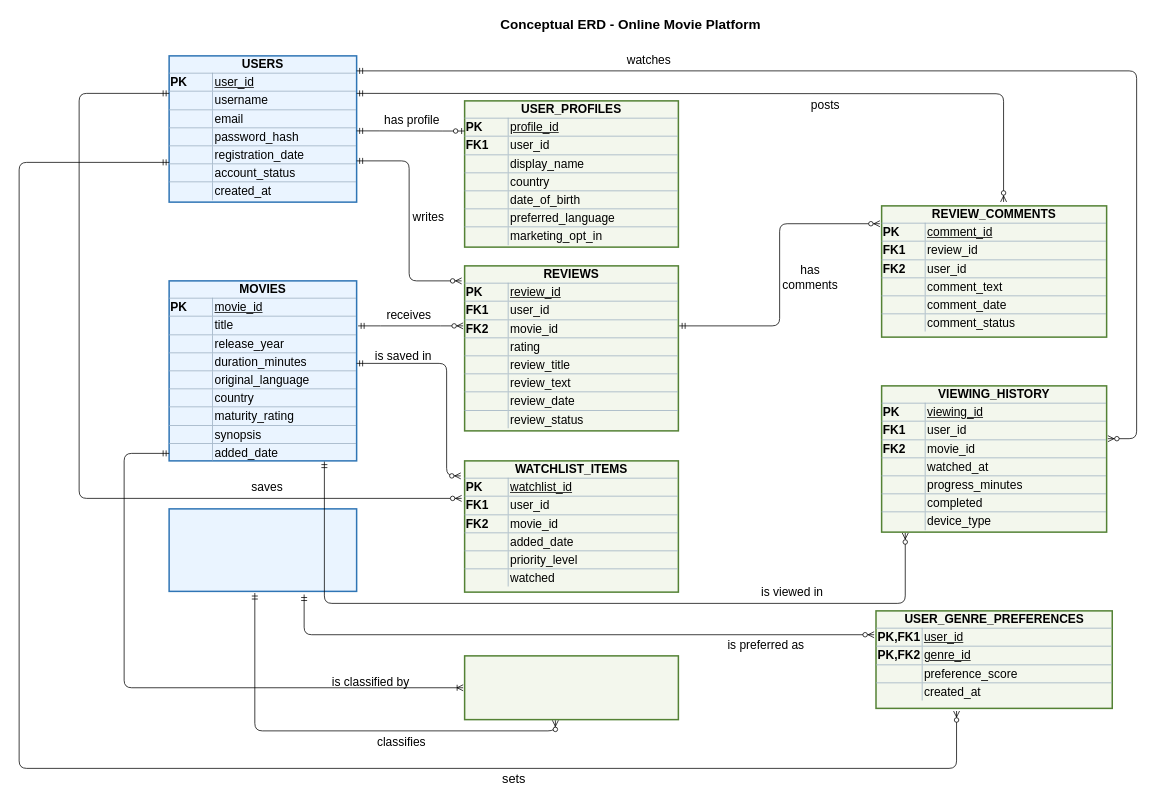
Image size: 1157x803. Some labels were removed from this diagram. Each missing label, with the centre of its shape:
GENRES PK genre_id genre_name description: pixel 262 550
MOVIE_GENRES PK,FK1 movie_id PK,FK2 genre_id: pixel 571 687
